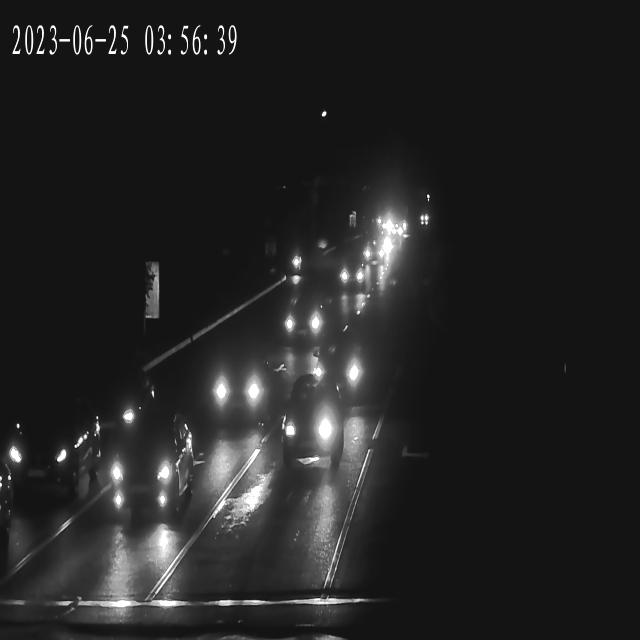Car: (1, 397, 101, 513), (97, 416, 195, 522), (64, 368, 159, 446), (193, 342, 272, 422), (283, 384, 349, 464), (310, 341, 370, 401), (281, 300, 330, 348), (0, 442, 14, 562), (337, 260, 369, 292), (359, 241, 388, 266), (380, 217, 404, 236), (372, 213, 396, 230)
